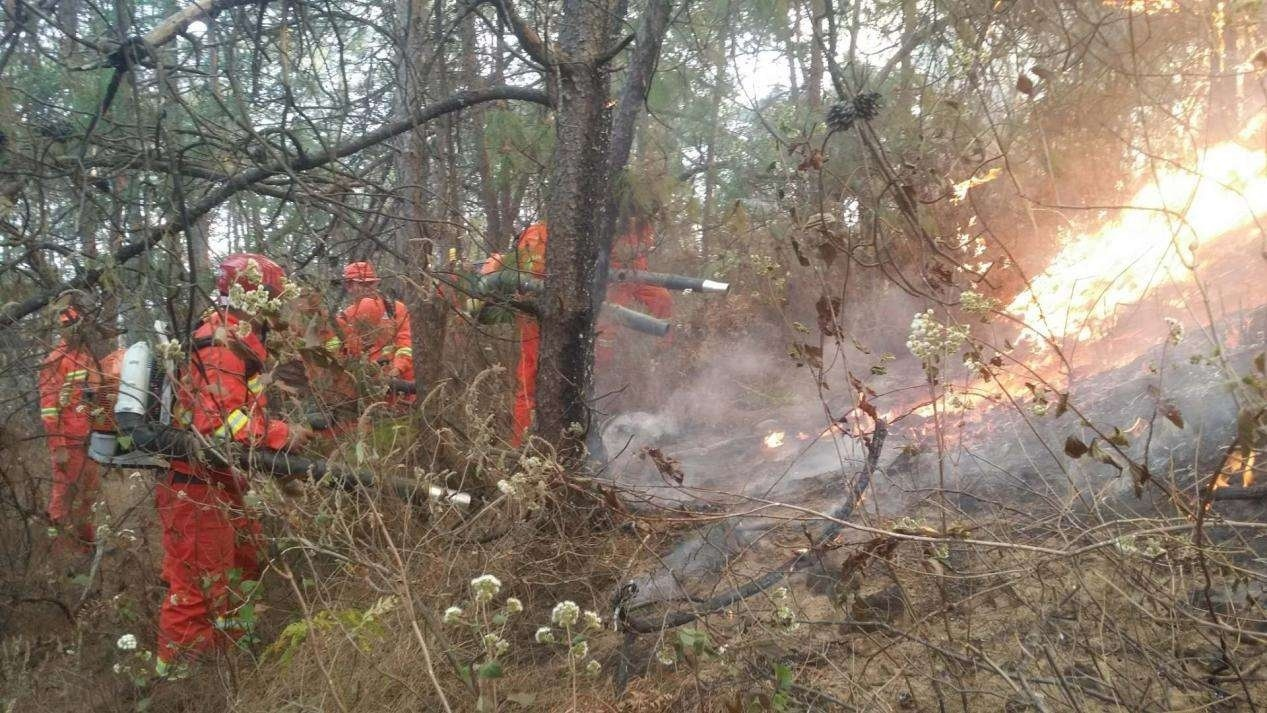fire: (906, 46, 1267, 441)
